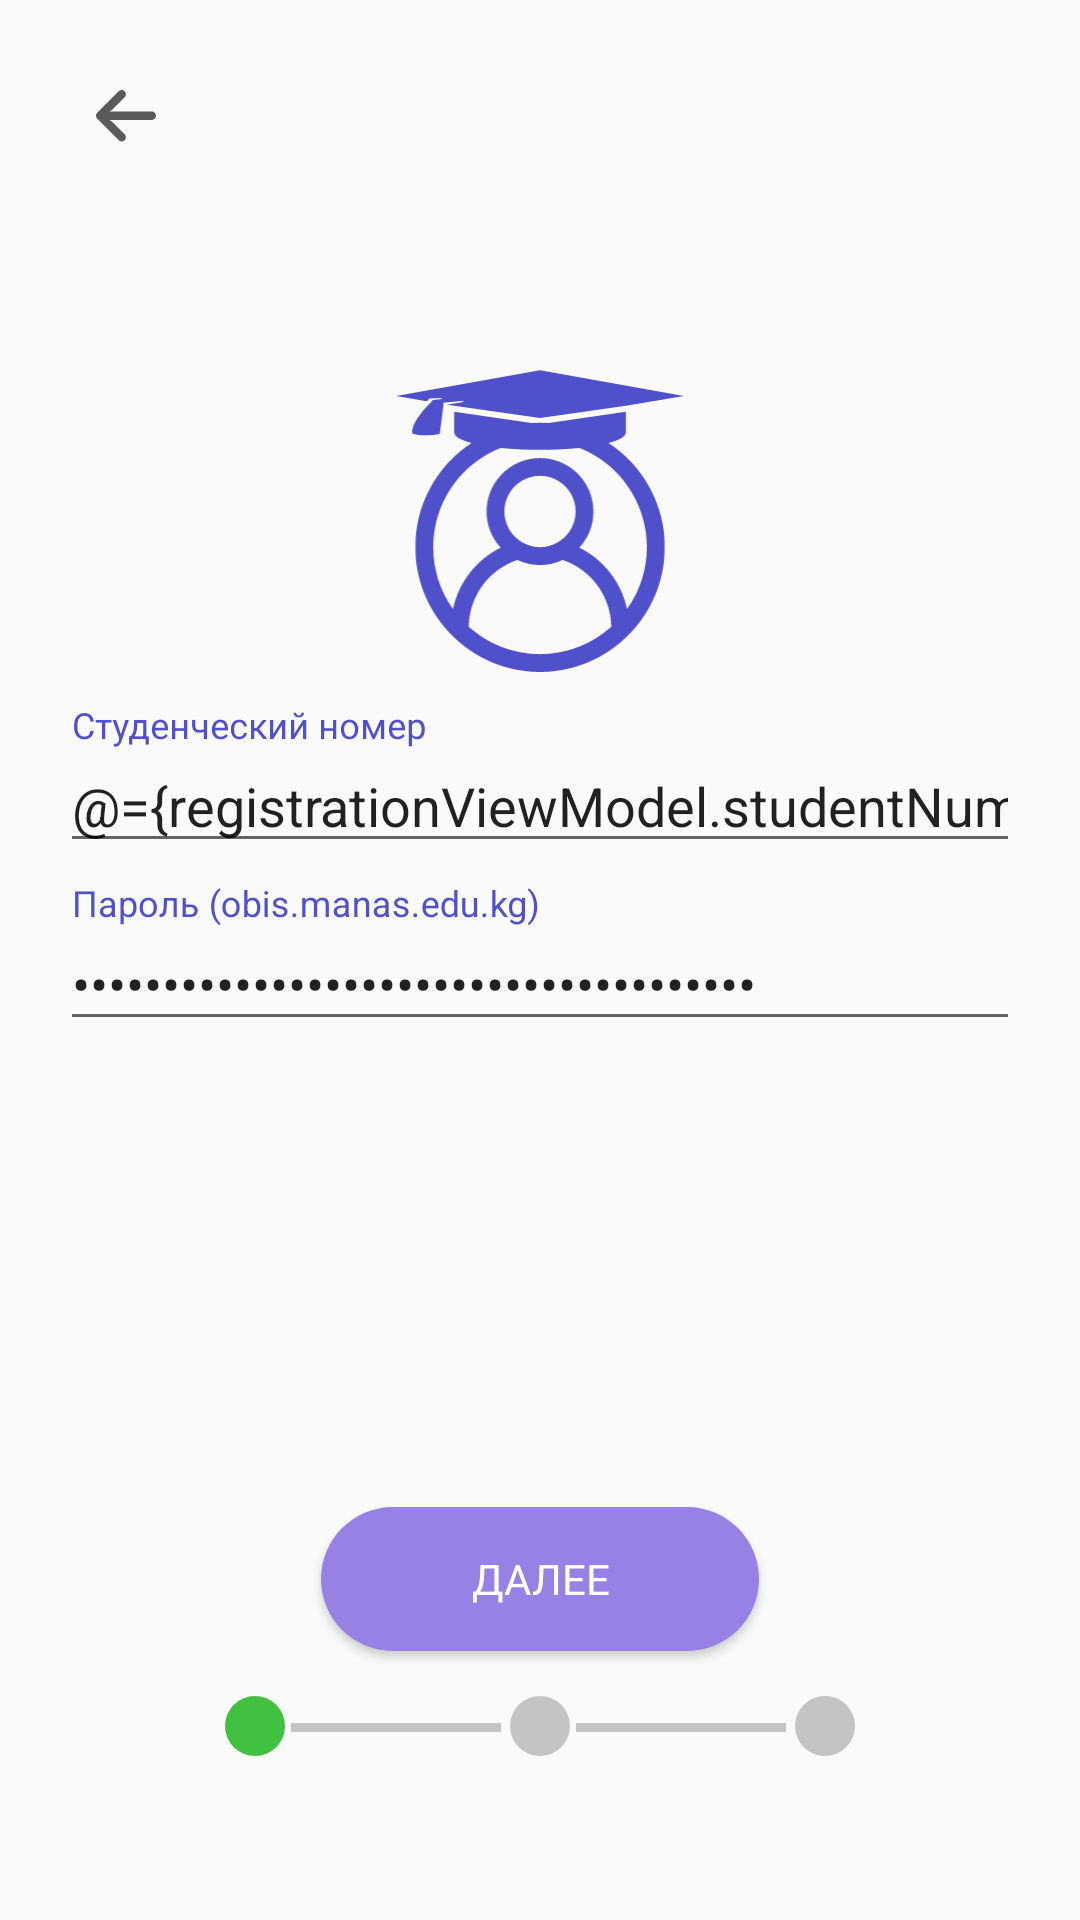

Icons on this 1080×1920 Android screen, each with its box as (x1, y1, x2, y2):
arrow back: (96, 90, 156, 142)
